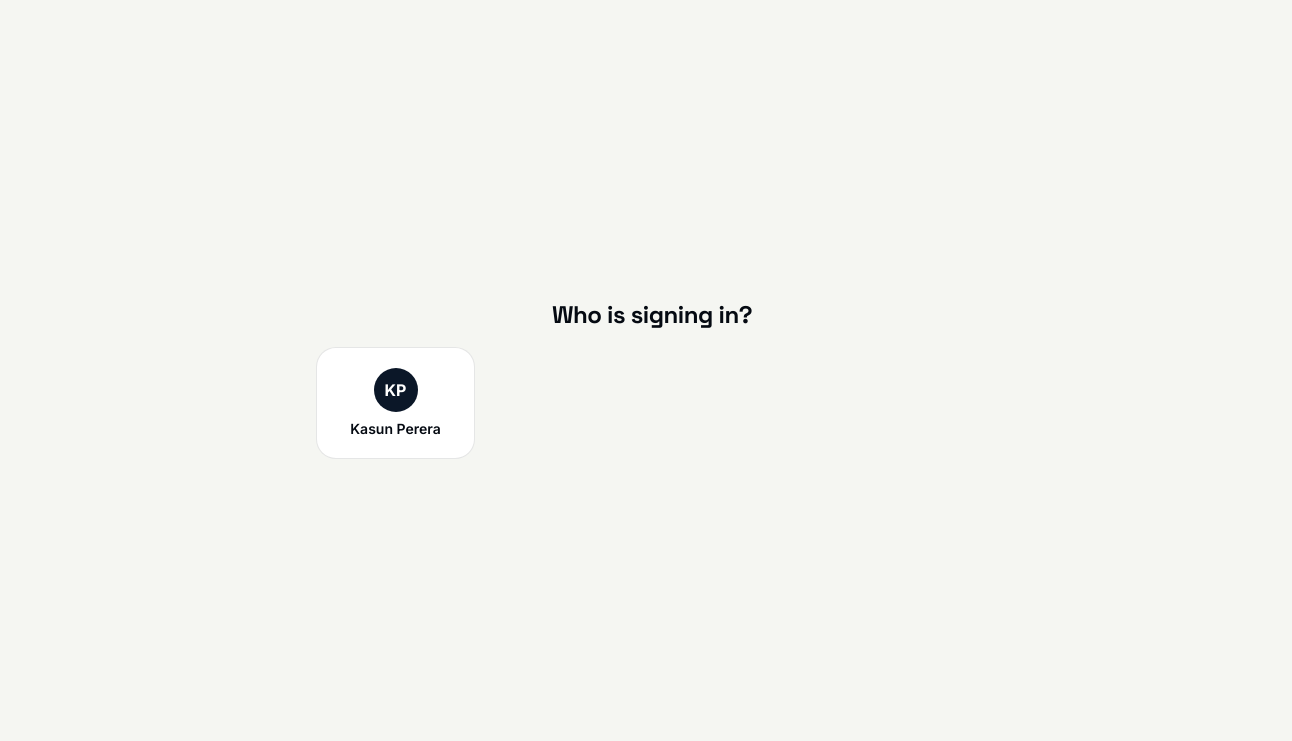
Test: SignInPage › signs in with the PIN and keeps the session for this tab
Click the button "KP Kasun Perera": (396, 403) [316,347,475,459]
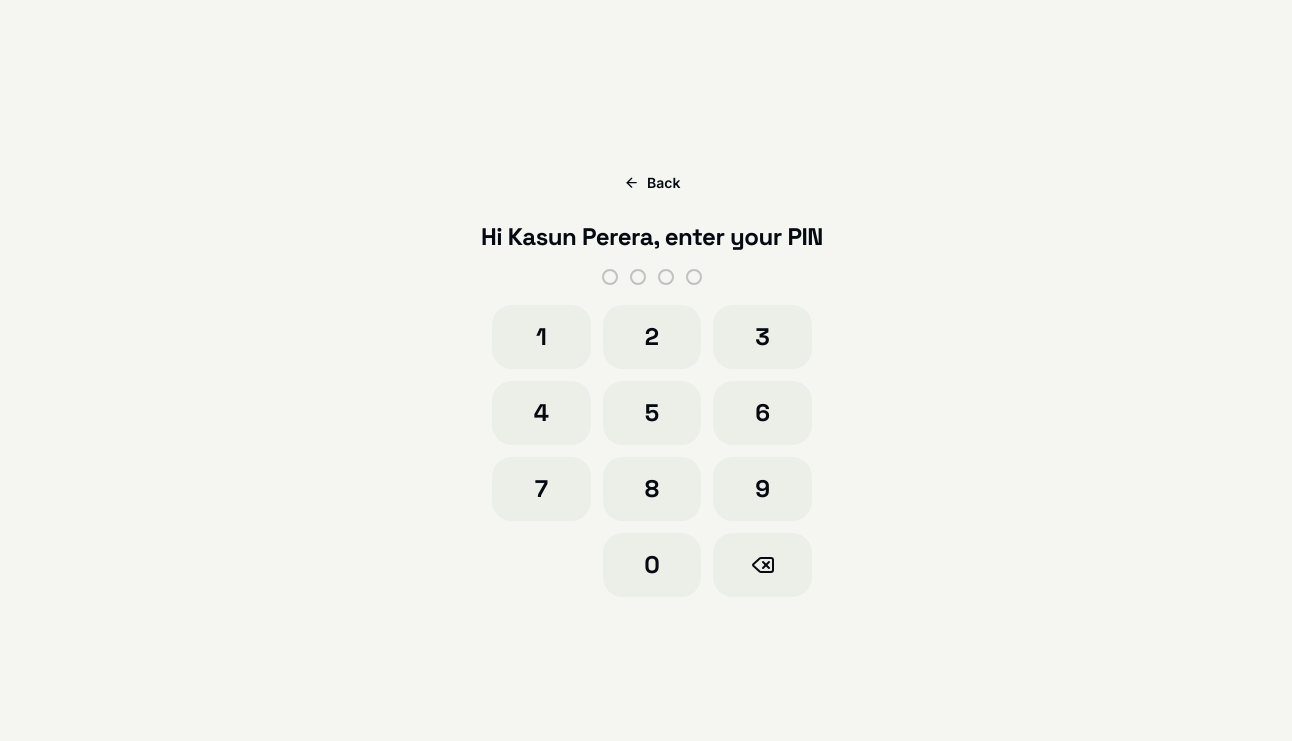
Expected: the heading "Hi Kasun Perera, enter your PIN" is shown, [481,221,823,253]
Type keys "4826"
(page scrolled)
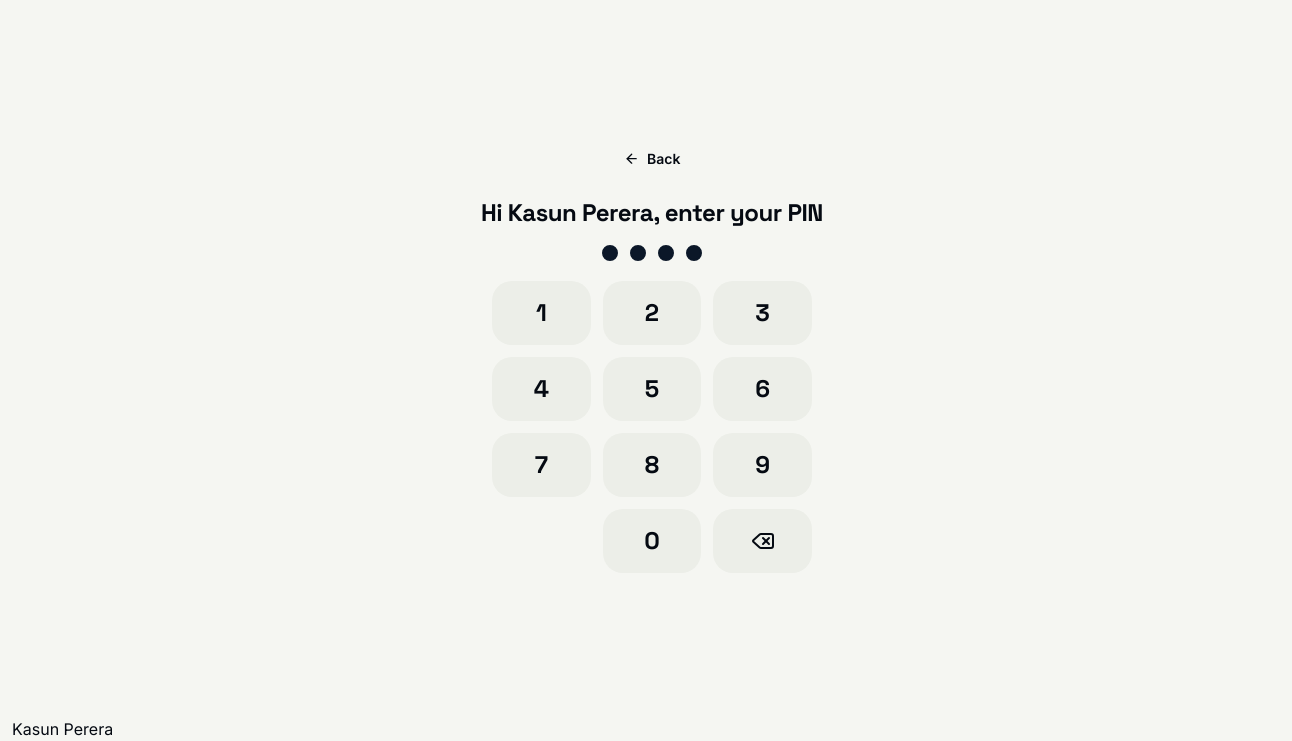
Expected: the text with test id "who" reads "Kasun Perera", [12,719,113,739]
